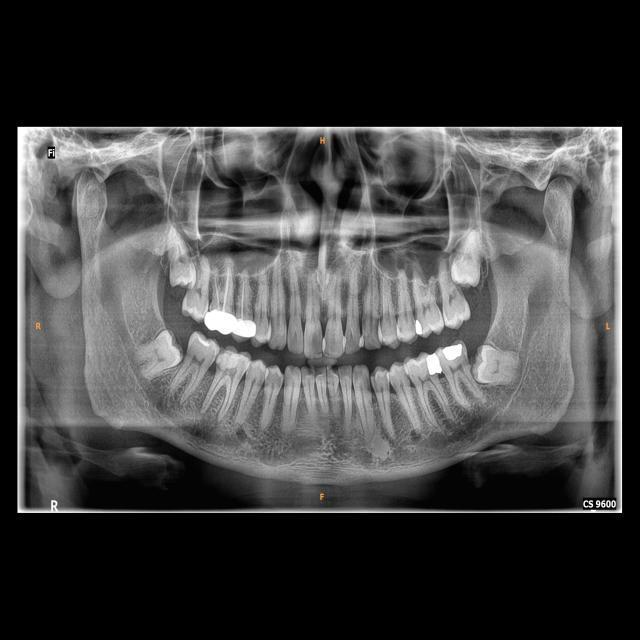dolgu: (443, 339, 467, 366), (421, 353, 445, 379)
kanal-tedavisi: (211, 263, 233, 310), (237, 274, 249, 314)
kaplama: (203, 308, 237, 334), (233, 315, 257, 339)
kok-enfeksiyonu: (404, 421, 428, 447), (232, 415, 250, 443)
